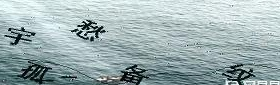chinese: (222, 58, 254, 85), (70, 16, 103, 42), (116, 58, 147, 83), (4, 23, 36, 47), (20, 58, 47, 84)
